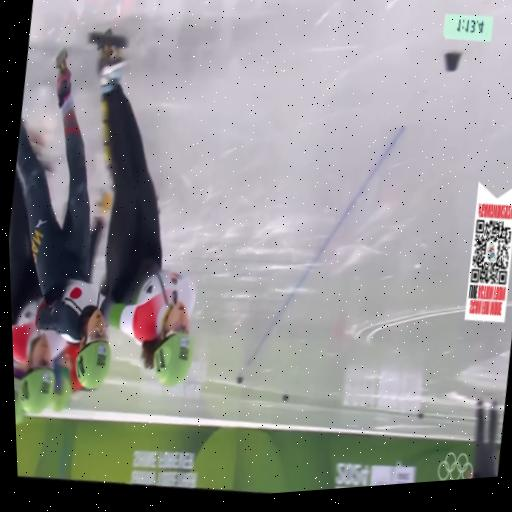Skater: (92, 34, 196, 385), (17, 50, 111, 388), (9, 172, 67, 413), (90, 192, 113, 278), (13, 358, 25, 423)
